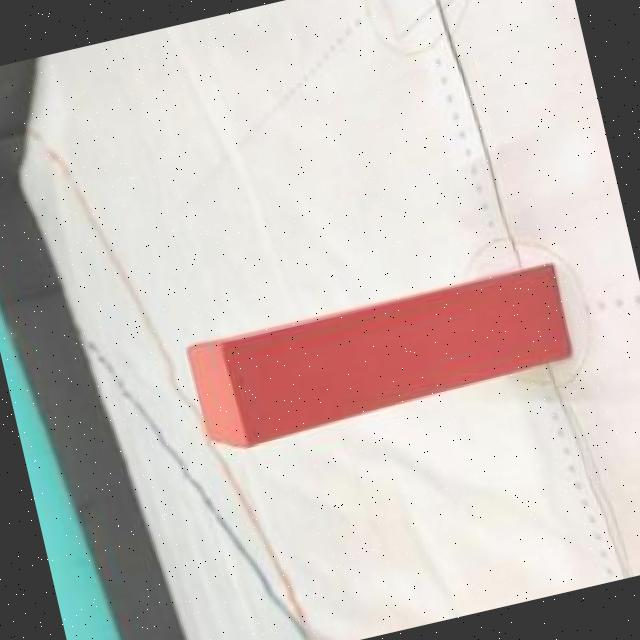redbox: (183, 262, 572, 448)
